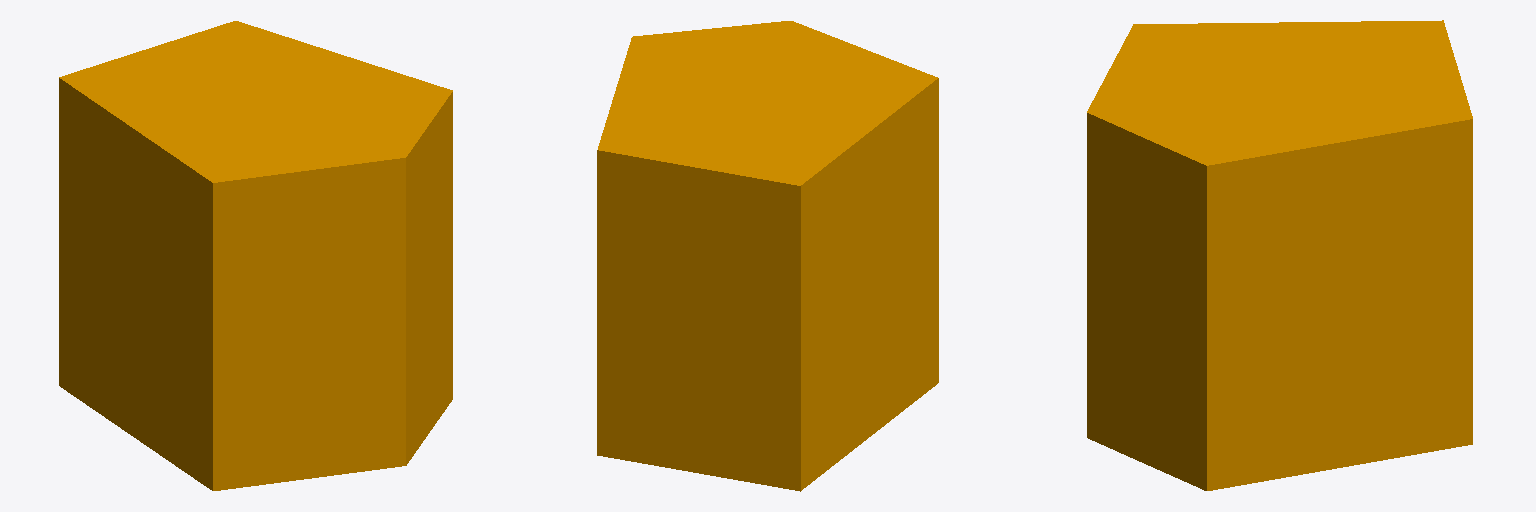
robot.urdf — object:
<?xml version="1.0"?>
<robot name="object">
  <link name="object">
    <visual>
      <origin xyz="0 0 0"/>
      <geometry>
        <mesh filename="meshes/generated/col_089.obj" scale="0.03 0.03 0.03"/>
      </geometry>
    </visual>
    <collision>
      <origin xyz="0 0 0"/>
      <geometry>
        <mesh filename="meshes/generated/col_089.obj" scale="0.03 0.03 0.03"/>
      </geometry>
    </collision>
    <inertial>
      <density value="1000.0"/>
    </inertial>
  </link>
</robot>

--- What the picture shows (computed from the rendered views, not written in the file) ---
3 views of the same robot in one strip: view 1: azimuth 30°, elevation 25°; view 2: azimuth 150°, elevation 25°; view 3: azimuth 270°, elevation 25° (orthographic).
Model object with 1 links and 0 joints (none), rooted at object, posed all joints at 0.
Visible links, largest first — view 1: object; view 2: object; view 3: object.
Link boxes in pixels (box(x1,y1,x2,y2)): object: box(59, 21, 452, 490); object: box(597, 21, 938, 491); object: box(1087, 20, 1472, 490).
Size in the robot's own frame: 0.0575 by 0.0646 by 0.06 metres.
Meshes: 1 distinct files referenced, 1 mesh visuals loaded (1 OBJ).
